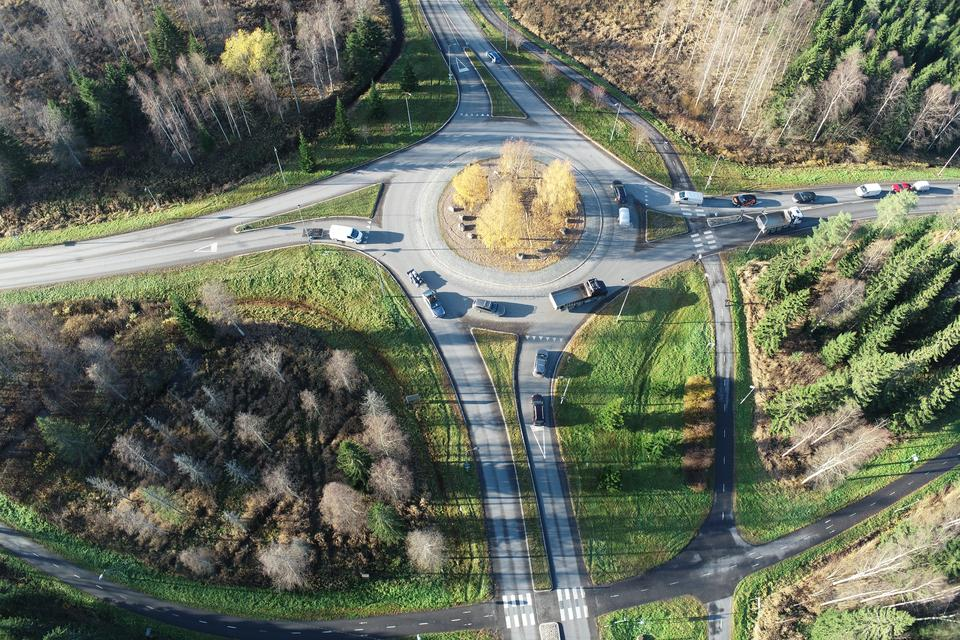intersection: (660, 164, 759, 297), (470, 571, 627, 640)
roundabout: (298, 68, 654, 355)
